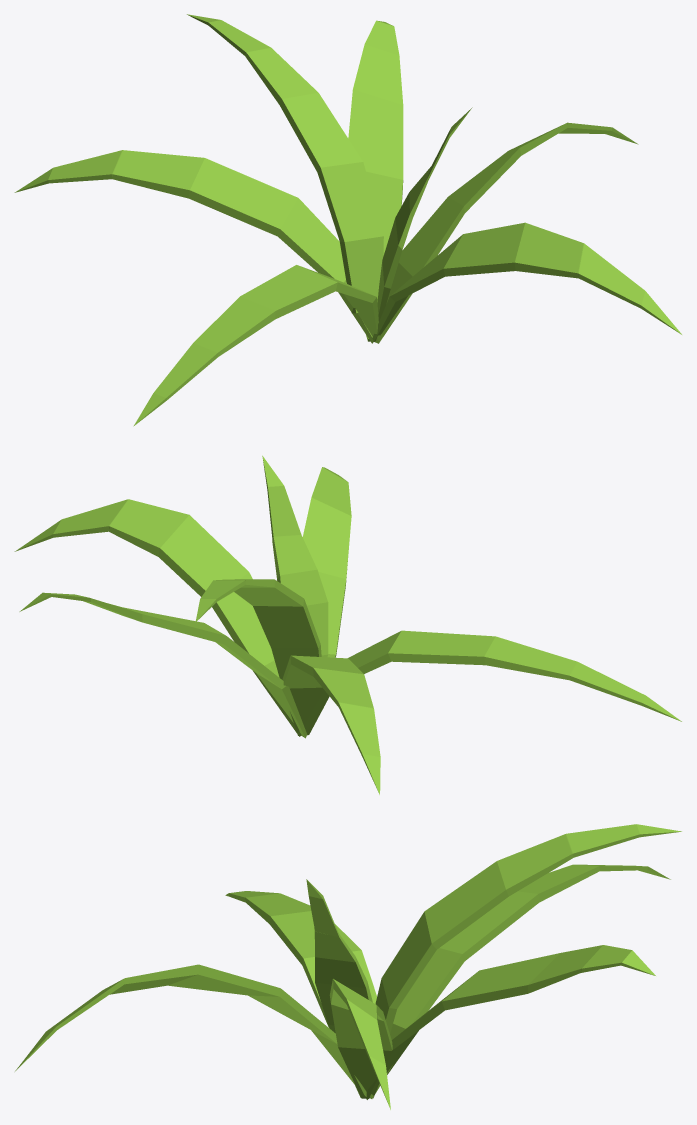
Rendered from spiderplant.fbx.
The picture shows the model from 3 angles, top to bottom: view 1: azimuth 30°, elevation 25°; view 2: azimuth 150°, elevation 25°; view 3: azimuth 270°, elevation 25°; orthographic projection. The views are drawn at different scales.
Parts seen in each view (by area): view 1: spiderplant; view 2: spiderplant; view 3: spiderplant.
Part boxes in pixels (x1,y1,x2,y2): spiderplant: (14,14,681,426); spiderplant: (14,455,681,794); spiderplant: (15,824,681,1109).
Bounding box in the file's own units: 183 × 71.75 × 170.
